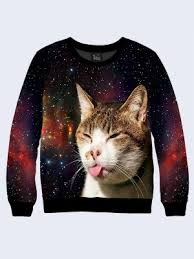cat: (69, 80, 153, 189)
